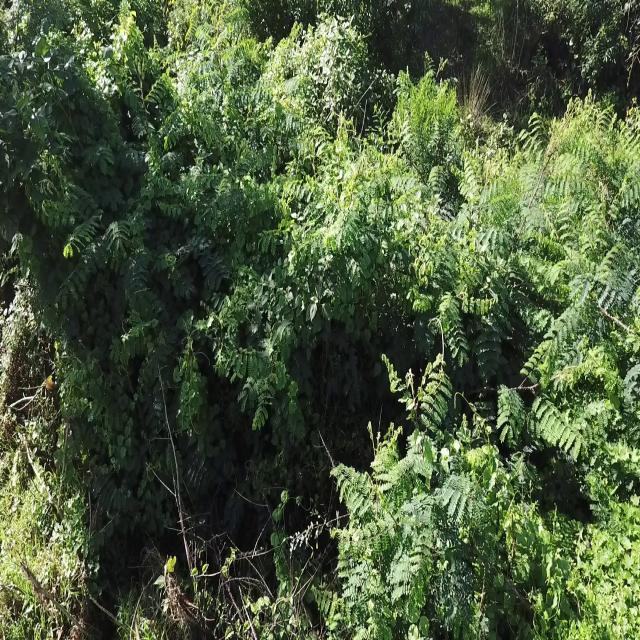Mysore-Thorn-Weed: (313, 352, 478, 640), (420, 161, 513, 329), (492, 345, 618, 459), (44, 206, 150, 317), (309, 154, 414, 252), (514, 116, 580, 255), (126, 330, 185, 483), (545, 256, 640, 350), (246, 16, 310, 152), (126, 51, 181, 183), (188, 2, 242, 112), (215, 343, 280, 425), (188, 168, 270, 219)
